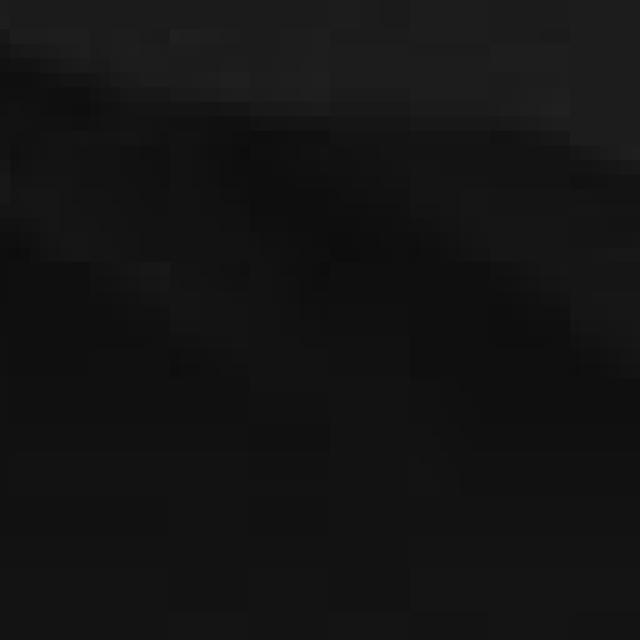fracture: (0, 5, 640, 640)
